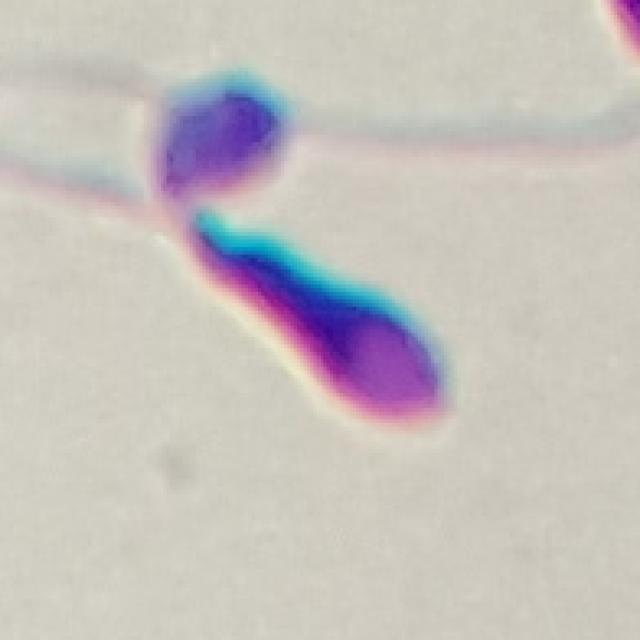abnormal sperm: (45, 170, 457, 435), (150, 72, 409, 200)
